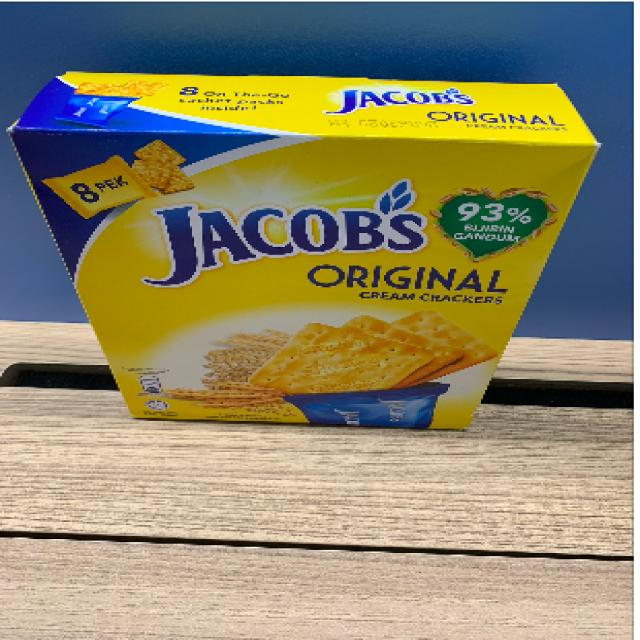object_name: (39, 88, 568, 431)
